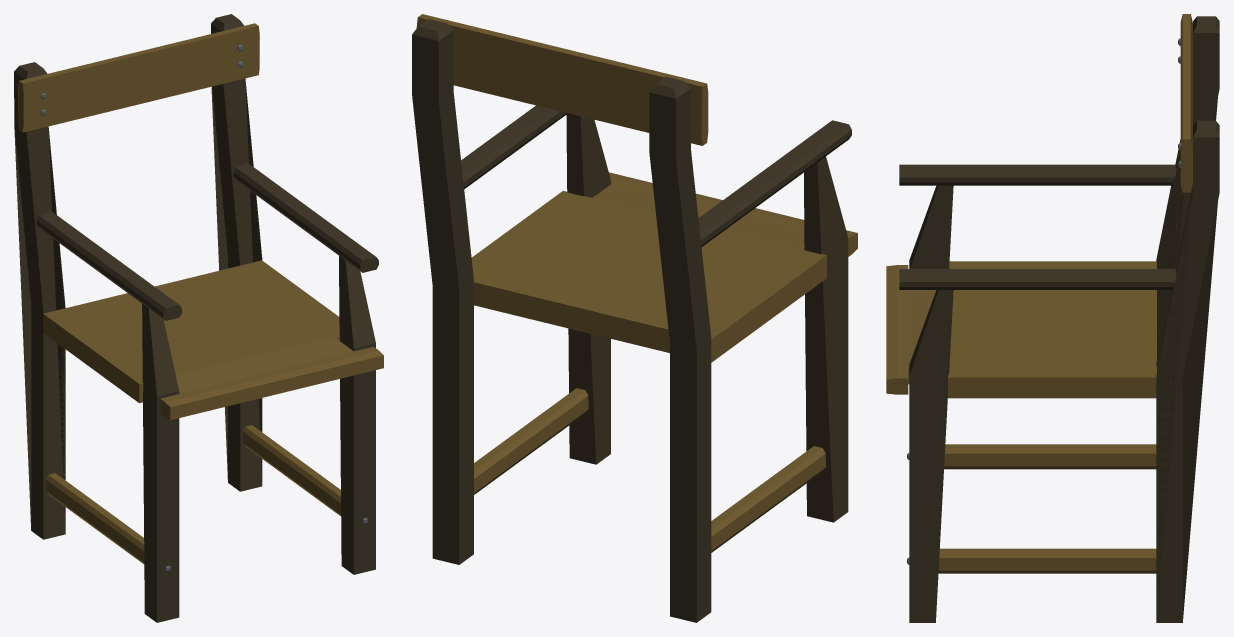
File: silla de madera 2 .fbx
3 renders of one model, left to right at view 1: azimuth 30°, elevation 25°; view 2: azimuth 150°, elevation 25°; view 3: azimuth 270°, elevation 25°, orthographic. The views are drawn at different scales.
Parts seen in each view (by area): view 1: silla; view 2: silla; view 3: silla.
Part boxes in pixels (x1=…): silla: x1=14, y1=14, x2=383, y2=622; silla: x1=412, y1=14, x2=857, y2=622; silla: x1=886, y1=14, x2=1219, y2=622.
Bounding box in the file's own units: 120 × 220 × 135.
